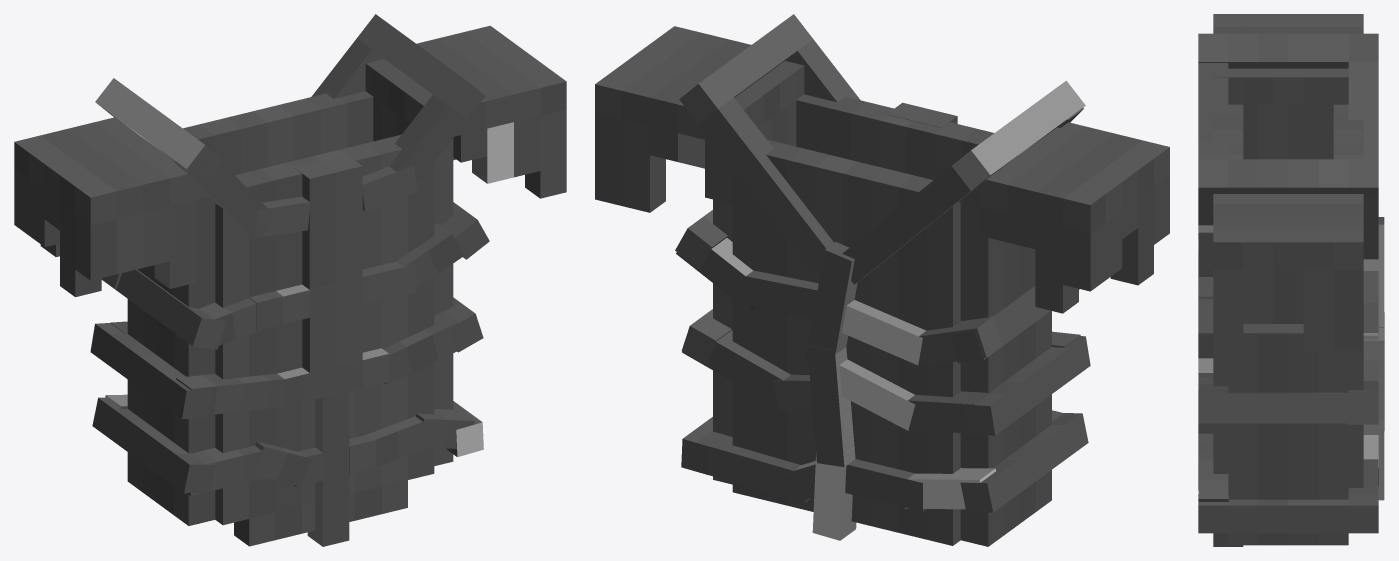
3 renders of one model, left to right at view 1: azimuth 30°, elevation 25°; view 2: azimuth 150°, elevation 25°; view 3: azimuth 270°, elevation 25°, orthographic. The views are drawn at different scales.
Parts seen in each view (by area): view 1: Body (×32), Right Arm (×13); view 2: Body (×29), Right Arm (×13); view 3: Right Arm (×7), Body (×26).
Part boxes in pixels (<box>): Body (×32): <box>90,14,489,546</box>; Right Arm (×13): <box>14,25,566,525</box>; Body (×29): <box>675,14,1090,545</box>; Right Arm (×13): <box>595,26,1169,546</box>; Right Arm (×7): <box>1213,14,1363,545</box>; Body (×26): <box>1198,33,1384,546</box>.
Size of the model in its own units: 1.12 by 0.9727 by 0.3875.
Materials: 1 (1 with a texture image).
